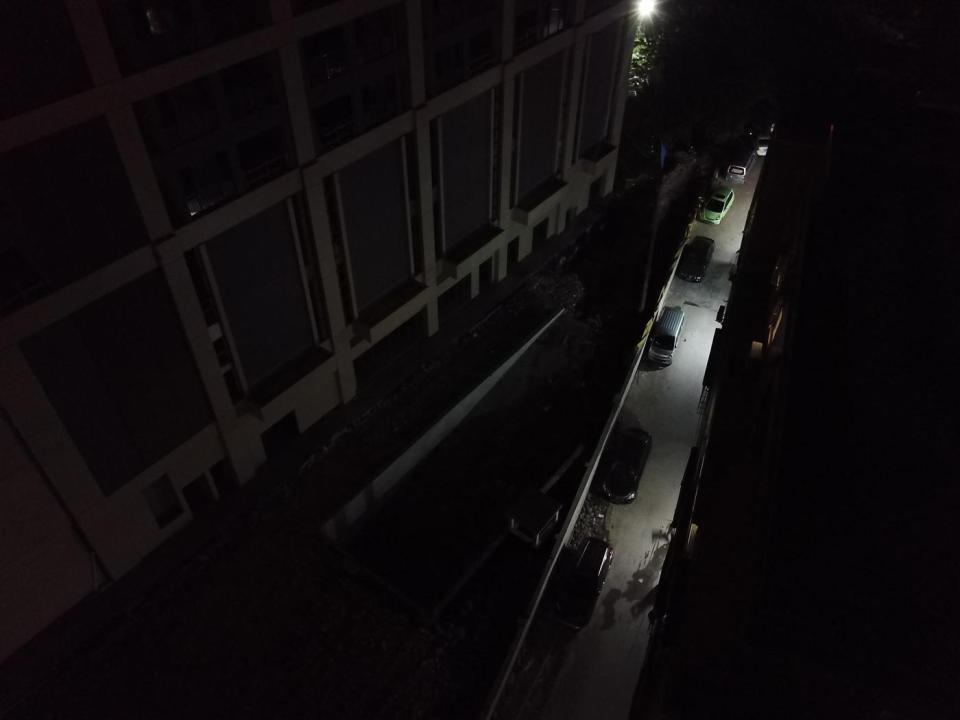car: (552, 536, 614, 630), (600, 427, 652, 505), (678, 235, 716, 283), (700, 185, 735, 226)
van: (647, 307, 686, 366), (725, 144, 758, 185), (752, 131, 773, 160)
